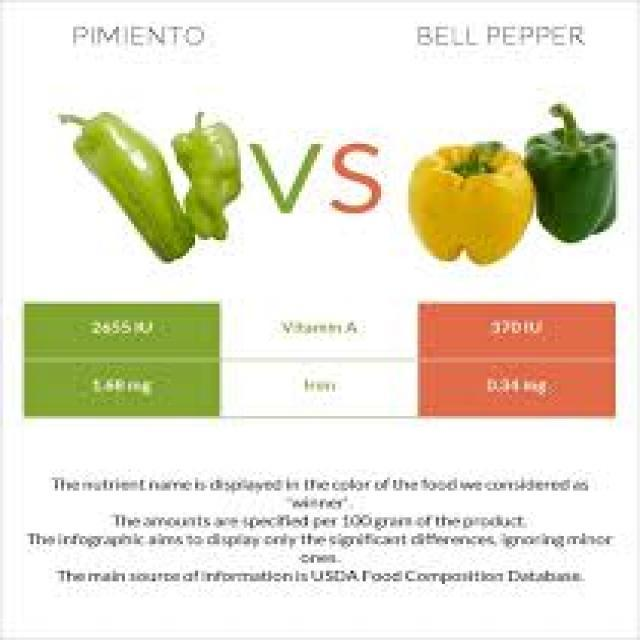Pepper: (58, 106, 194, 266), (408, 134, 536, 266), (525, 96, 617, 247), (168, 108, 245, 244)
